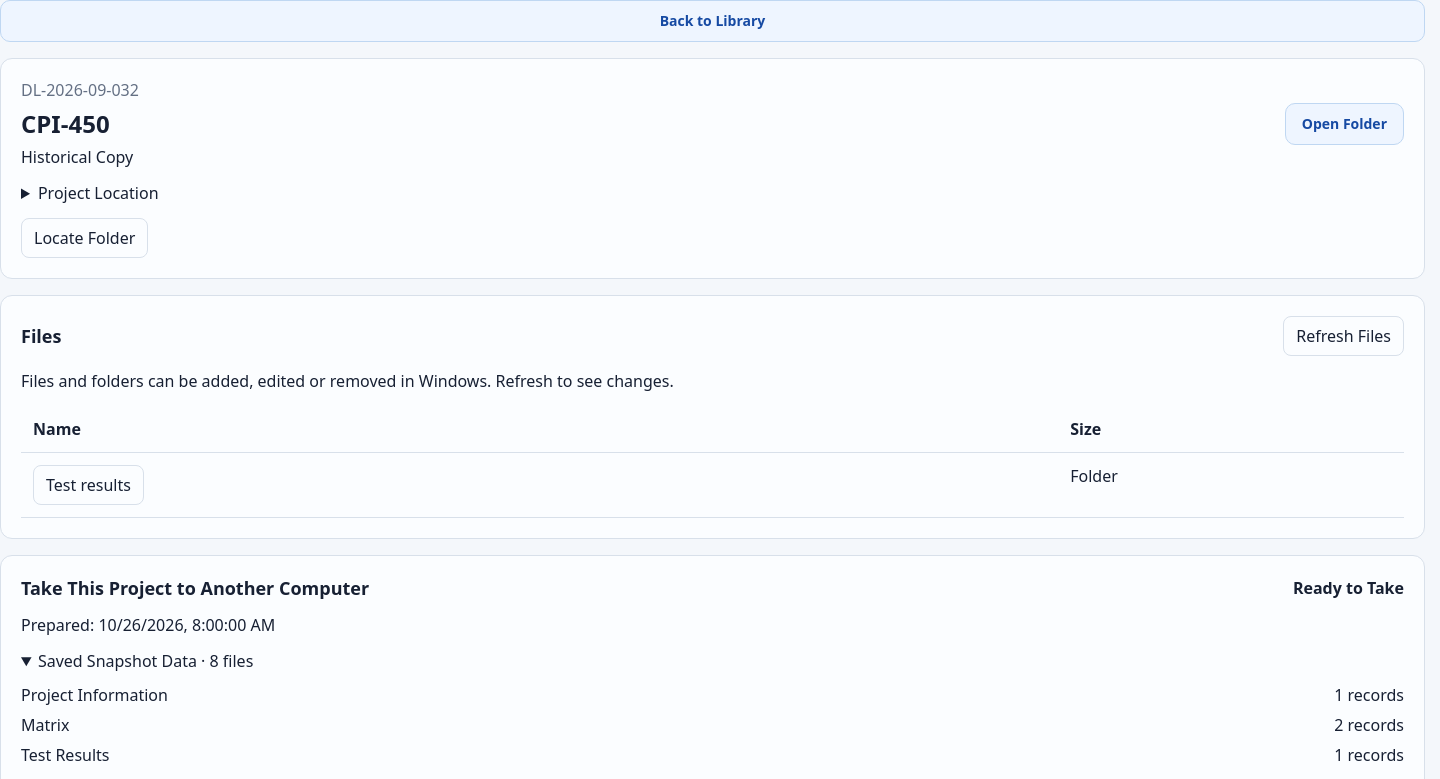
Scenario: Library project management › refreshes snapshot coverage and file browsing after a confirmed location change
expect the text "Ready to Take" is shown: met, box [1293,577,1404,599]
Click the button "Locate Folder".
click(85, 238)  # box [21,218,148,258]
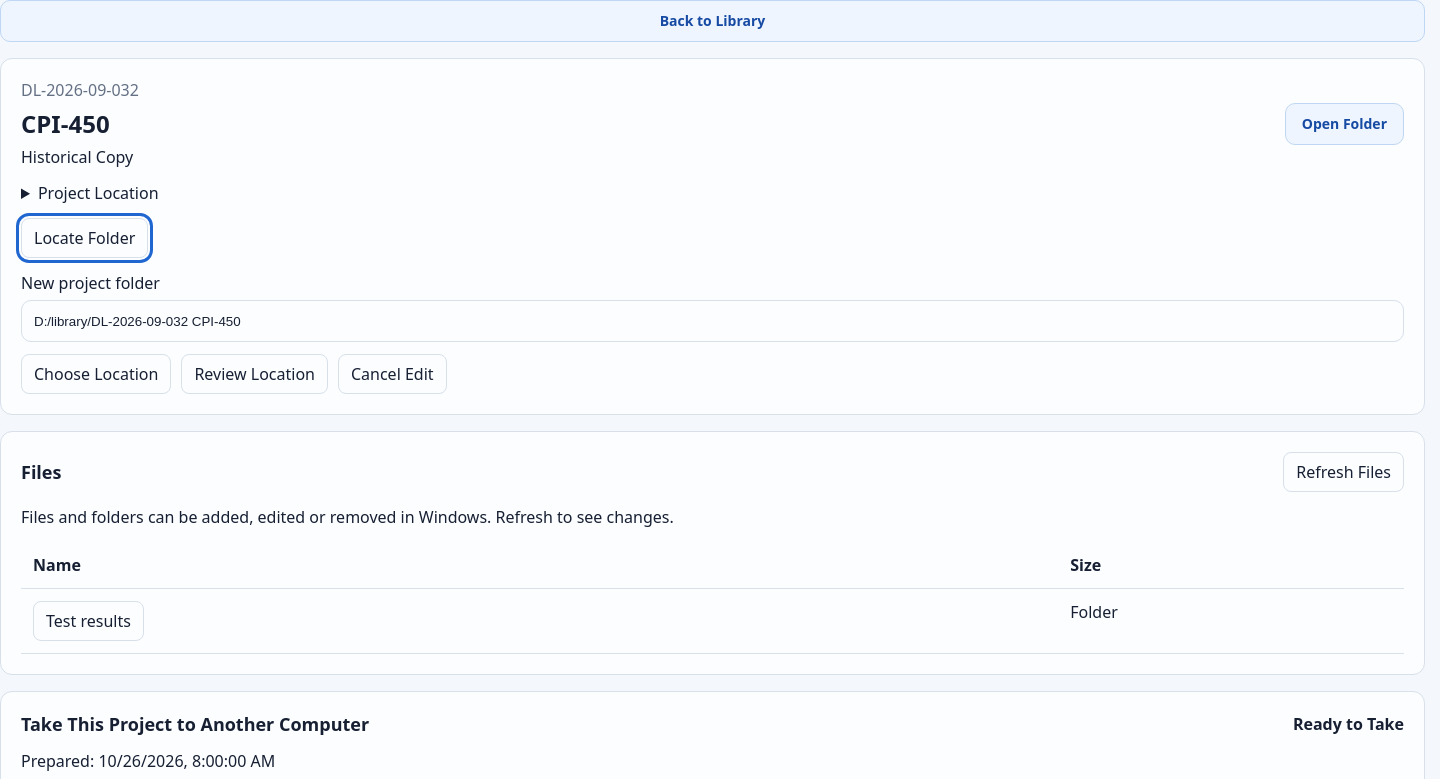
Replace the text in the field with "D:/library/Revised" at (712, 321), box [21,300,1404,342]
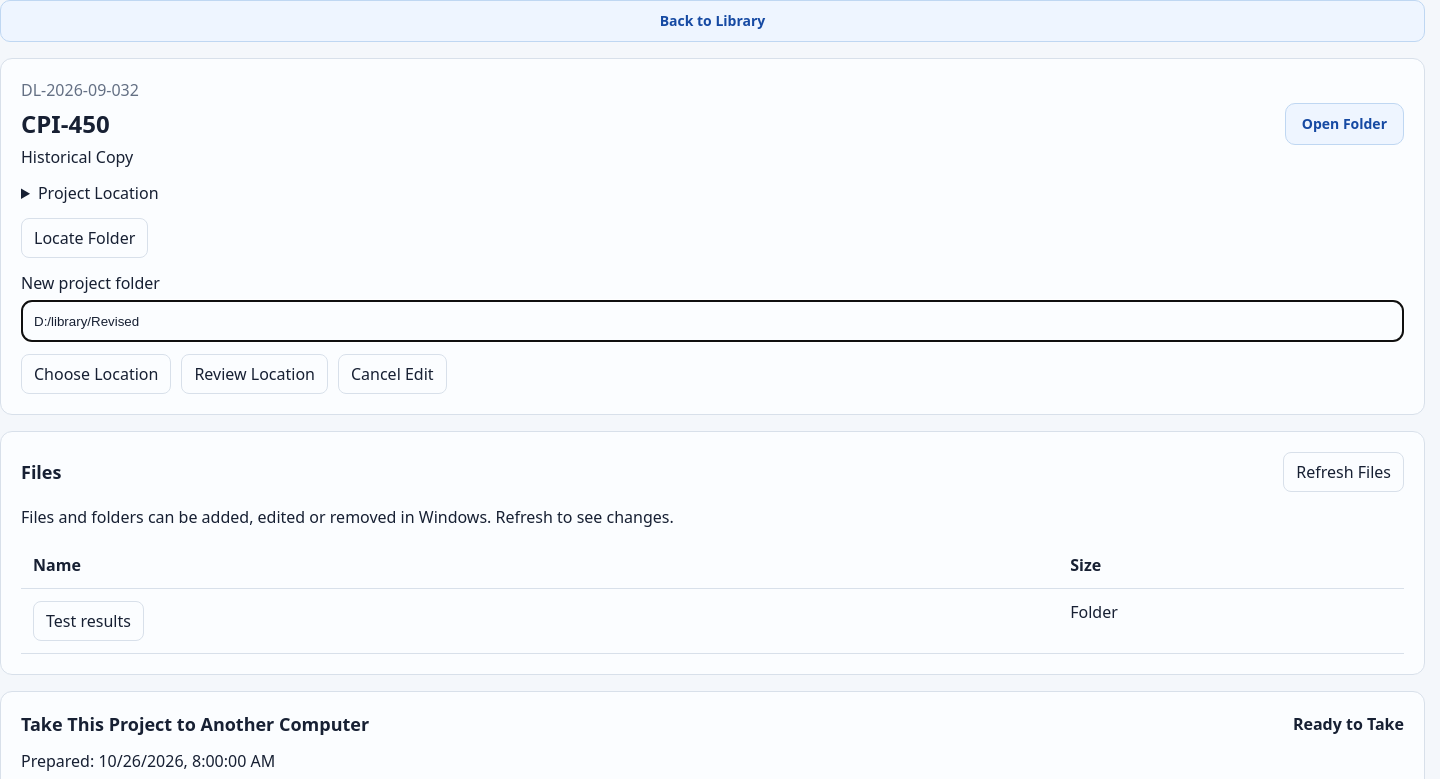
Click the button "Review Location".
click(255, 374)  # box [181,354,328,394]
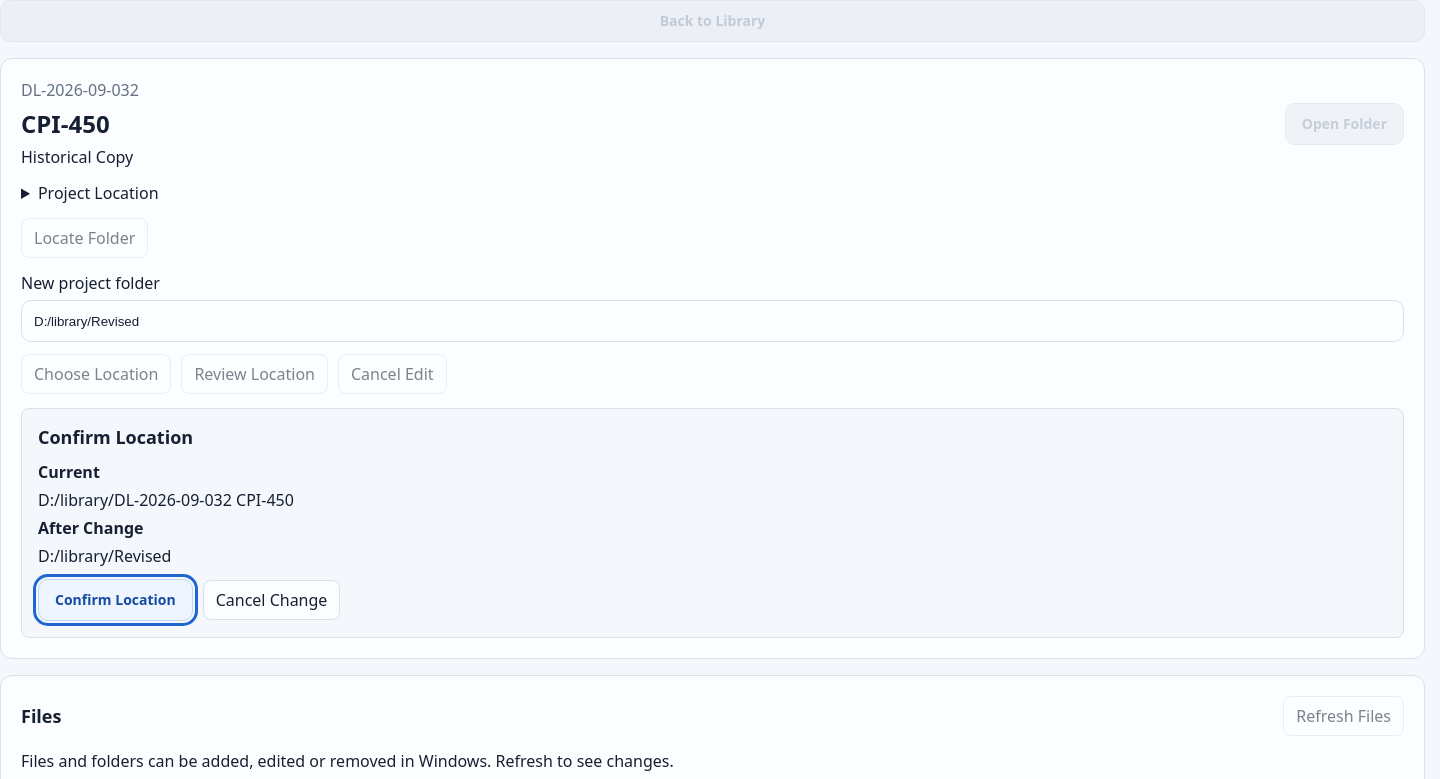
Click the button "Confirm Location".
click(115, 600)  # box [38,579,193,621]
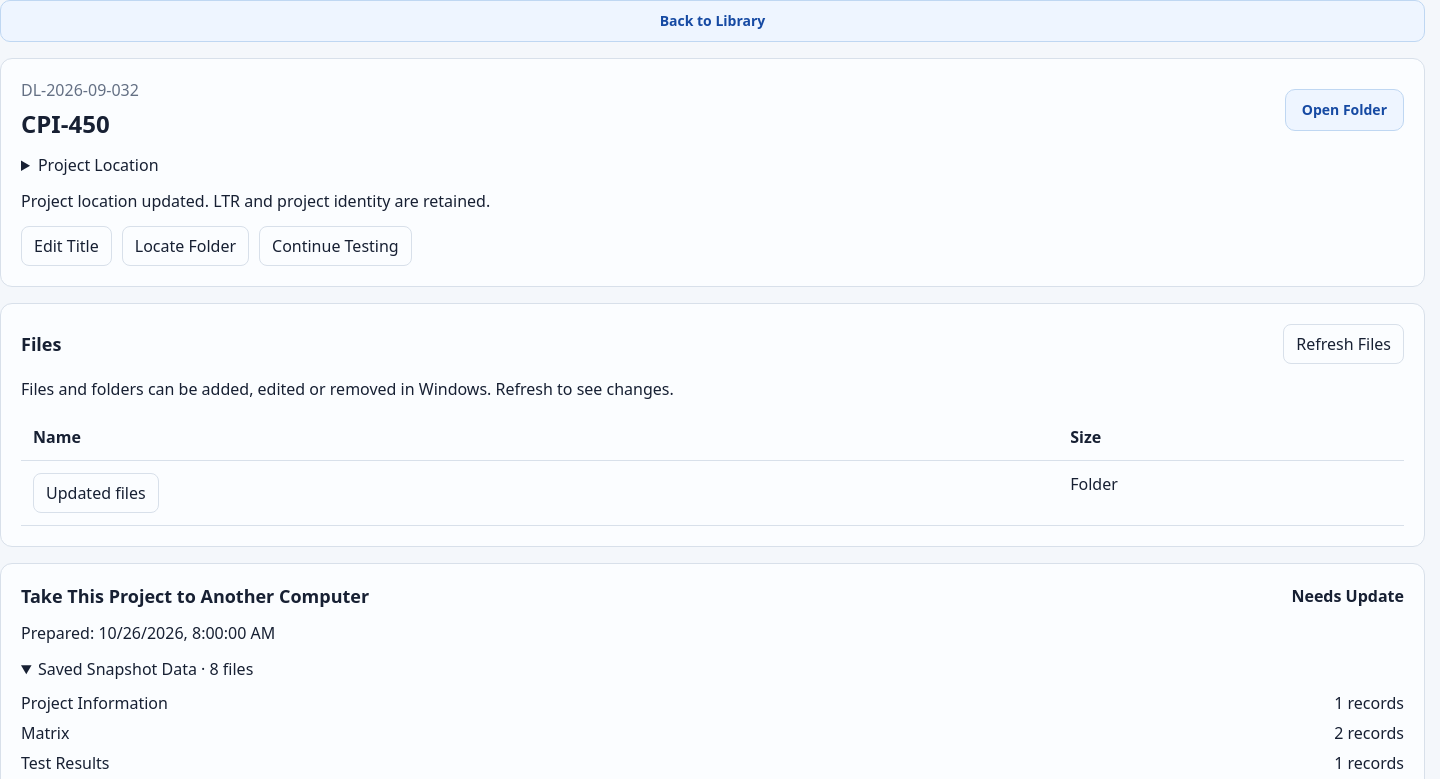
expect the text "Needs Update" is shown: met, box [1291,585,1404,607]
expect the button "Updated files" is shown: met, box [33,473,159,513]
